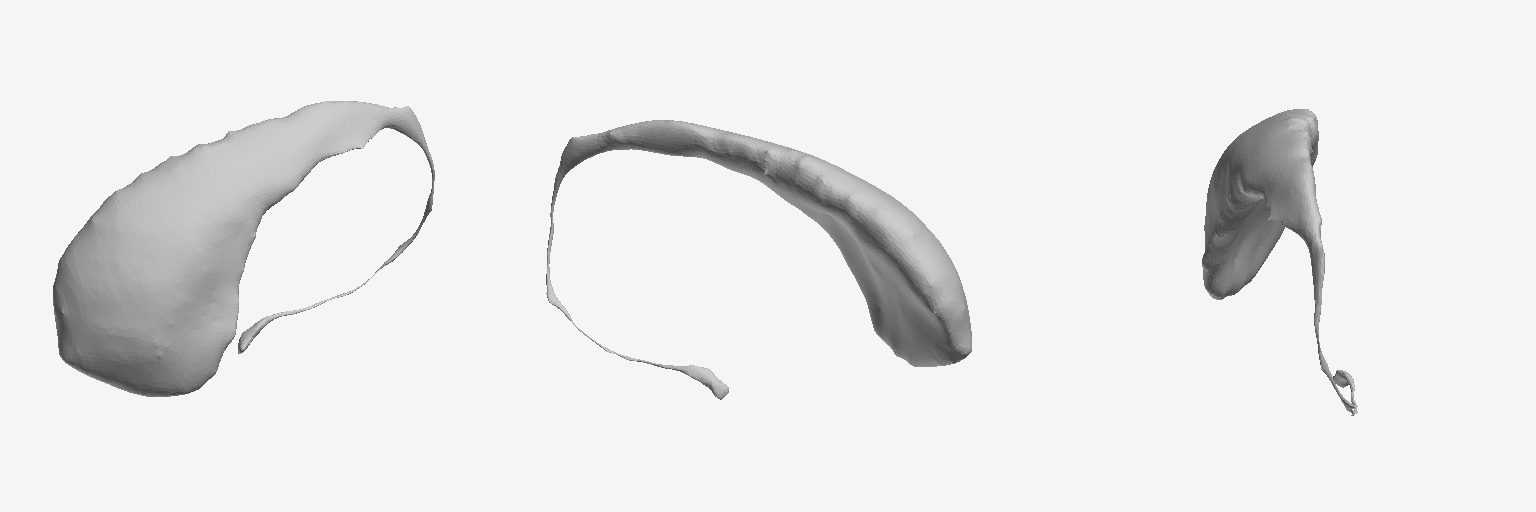
Rendered from R-Caudate.obj.
3 renders of one model, left to right at view 1: azimuth 30°, elevation 25°; view 2: azimuth 150°, elevation 25°; view 3: azimuth 270°, elevation 25°, orthographic.
Visible parts, largest first — view 1: R-caudate_RIGHT-caudate; view 2: R-caudate_RIGHT-caudate; view 3: R-caudate_RIGHT-caudate.
Part boxes in pixels (left/top/right/bottom): R-caudate_RIGHT-caudate: left=53, top=101, right=434, bottom=396; R-caudate_RIGHT-caudate: left=546, top=120, right=971, bottom=399; R-caudate_RIGHT-caudate: left=1202, top=109, right=1357, bottom=415.
Bounding box in the file's own units: 88.84 × 53.43 × 30.44.